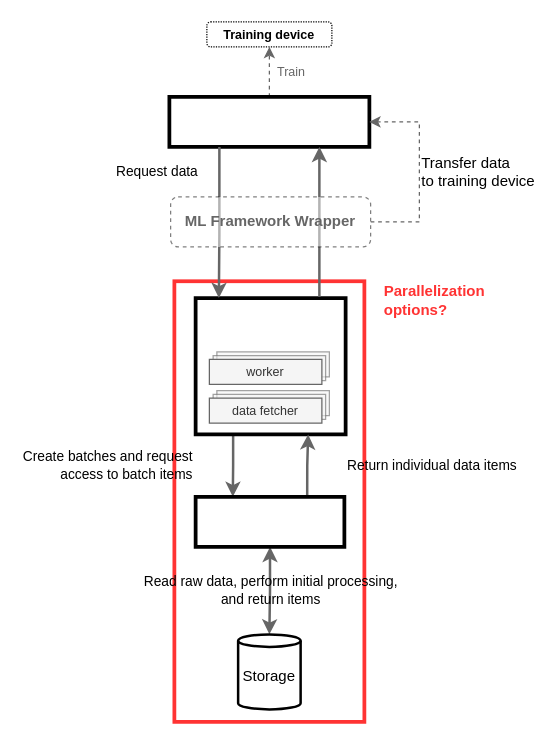
Some shapes in this 558 by 745 pixel diagram are drawn without their labels. The shapes that lost their labels are listed below. From the top down, each one's box as (x1, y1, x2, y2) in pixels, then its label:
(167, 94, 371, 148): ML Model
(193, 296, 347, 436): Dataloader
(193, 494, 346, 548): Dataset
